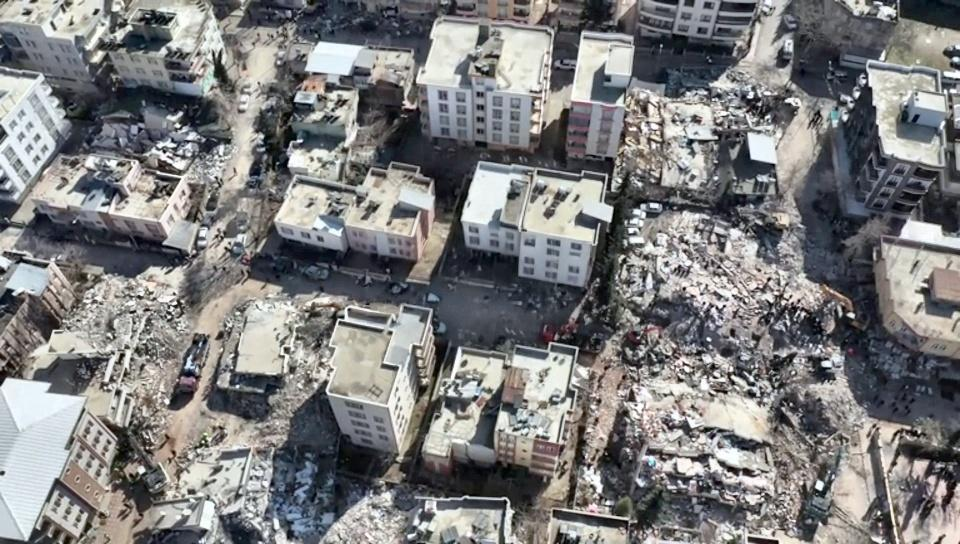kapali: (777, 164, 865, 475), (497, 291, 784, 373)
